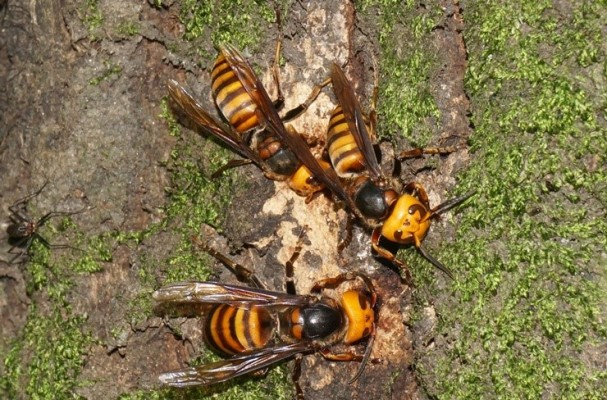asian_giant_hornet: (304, 60, 478, 282), (151, 262, 391, 379), (167, 37, 337, 201)
